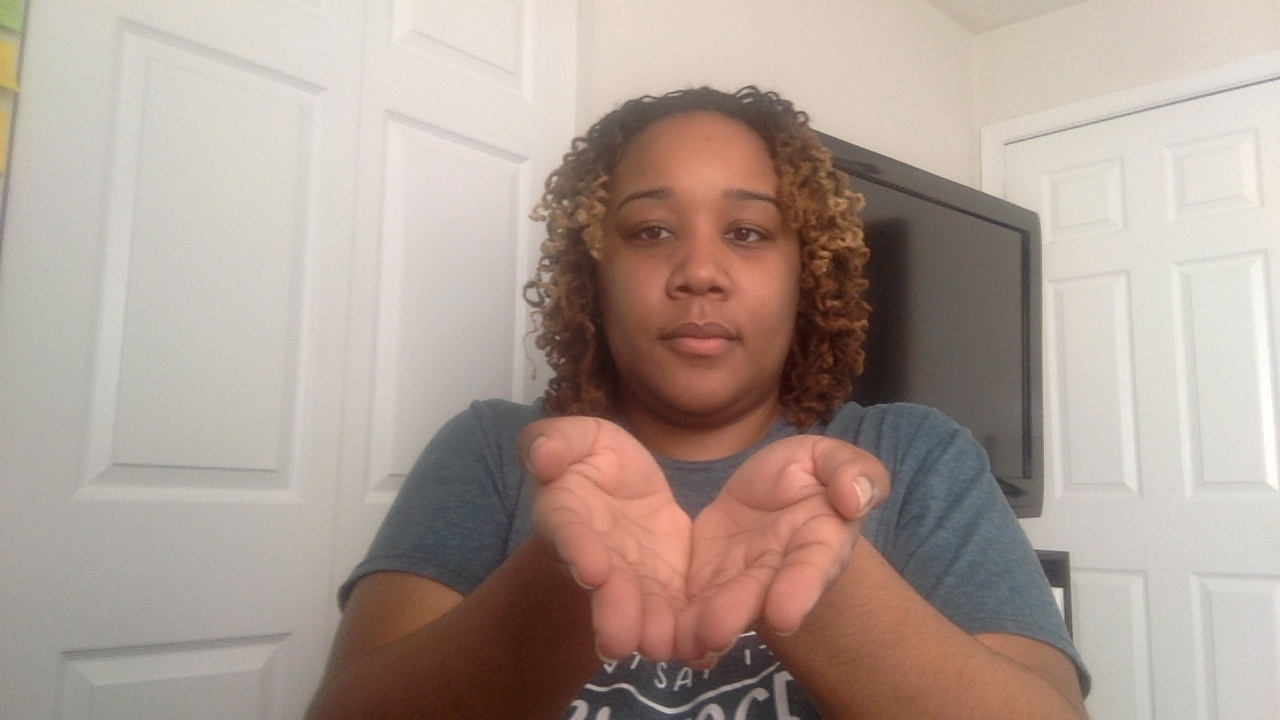book: (495, 411, 922, 683)
